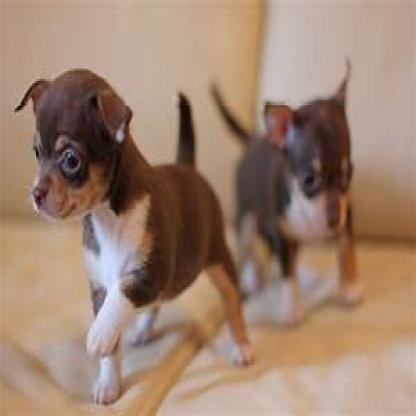dog: (14, 68, 254, 404), (209, 56, 366, 327)
